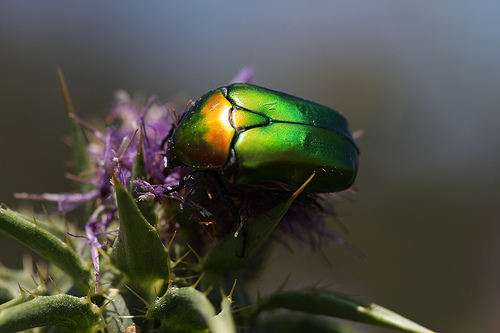Protaetia_cuprea_ignicollis: (156, 80, 361, 263)
